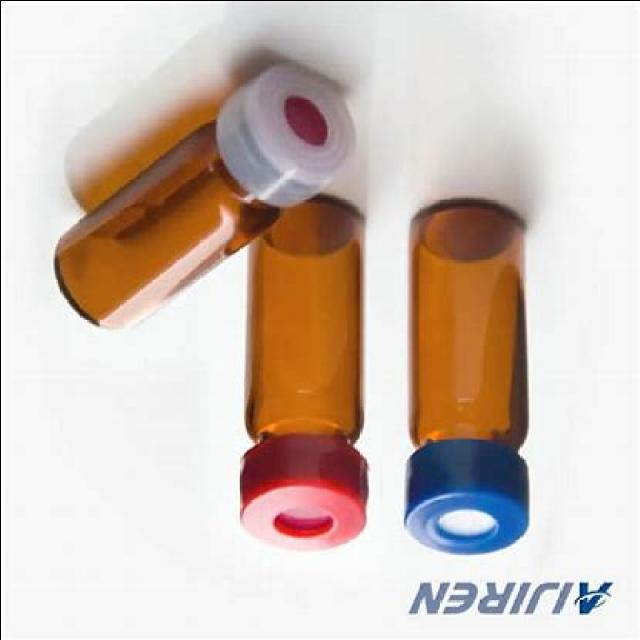vial: (238, 68, 353, 190), (245, 482, 367, 560), (411, 471, 525, 553)
